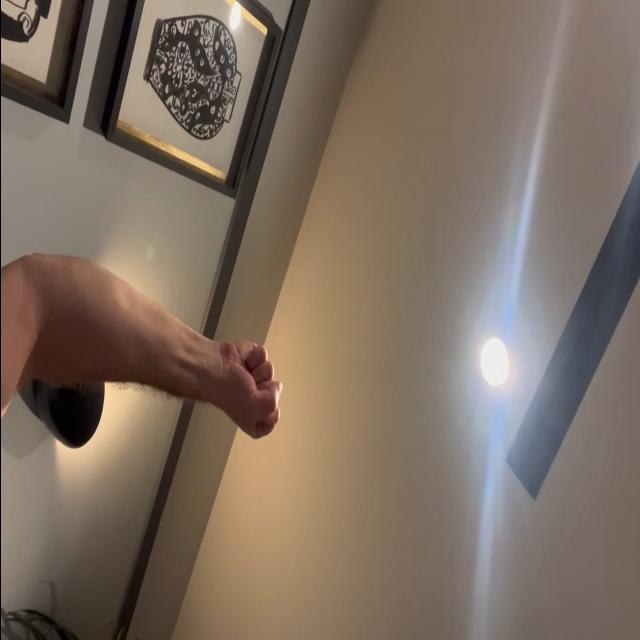Rock: (216, 332, 284, 442)
